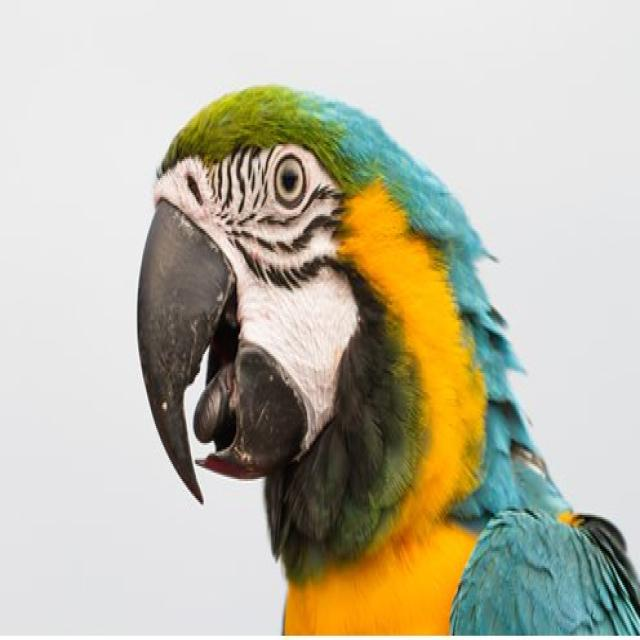Parrot: (134, 74, 640, 640)
